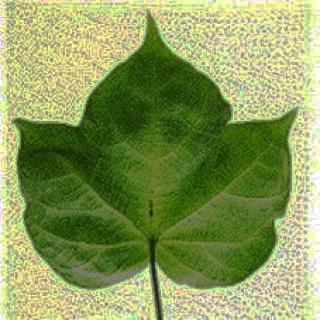curl: (18, 38, 292, 286)
